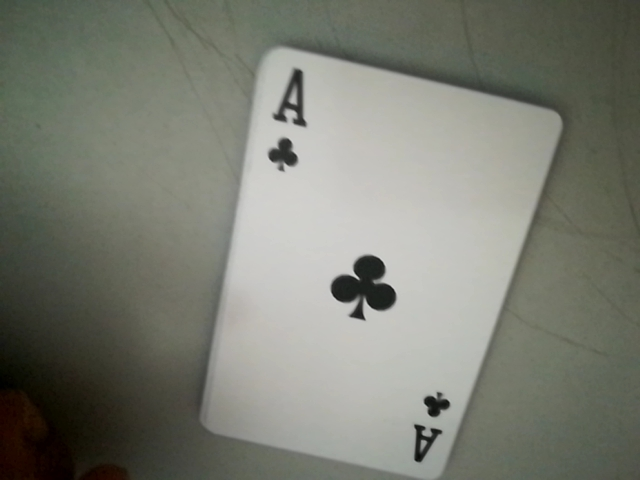mh a: (248, 55, 312, 186), (407, 384, 459, 478)
